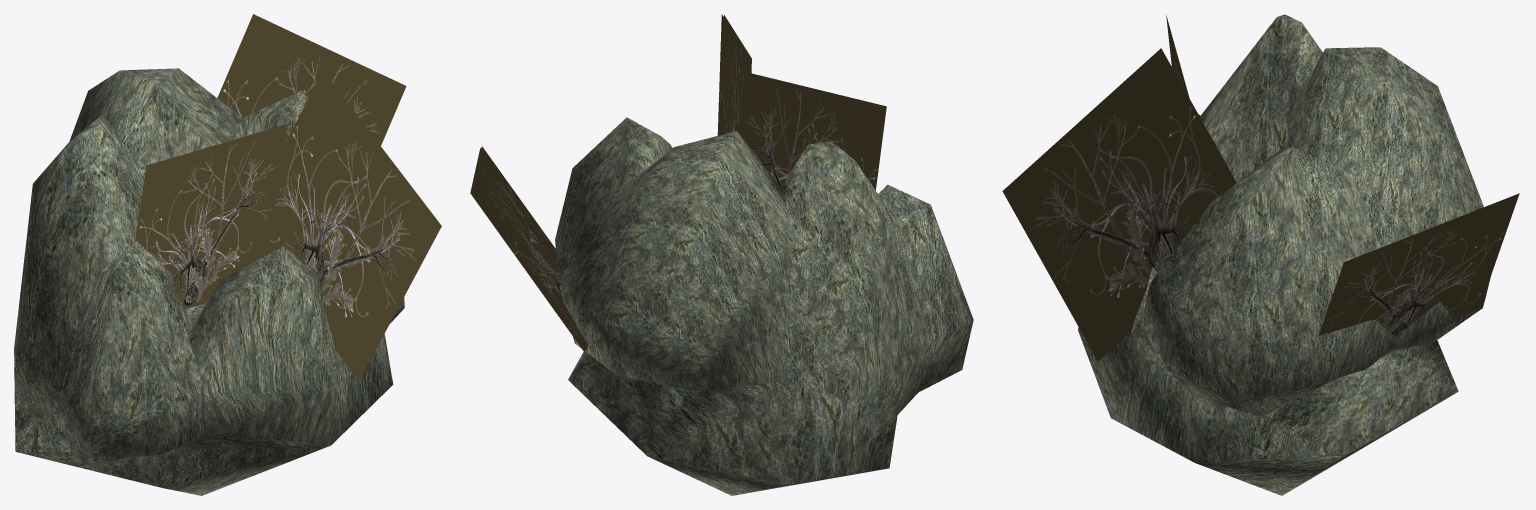
Rendered from poi_all_lair_rocks_large_l2.fbx.
3 views of the same model, side by side, from view 1: azimuth 30°, elevation 25°; view 2: azimuth 150°, elevation 25°; view 3: azimuth 270°, elevation 25° (orthographic). The views are drawn at different scales.
Parts seen in each view (by area): view 1: mesh_node; view 2: mesh_node; view 3: mesh_node.
Part boxes in pixels (x1,y1,x2,y2): mesh_node: [14, 14, 441, 495]; mesh_node: [470, 14, 973, 495]; mesh_node: [1002, 14, 1519, 495].
Size of the model in its own units: 6.2 by 6.34 by 6.18.
